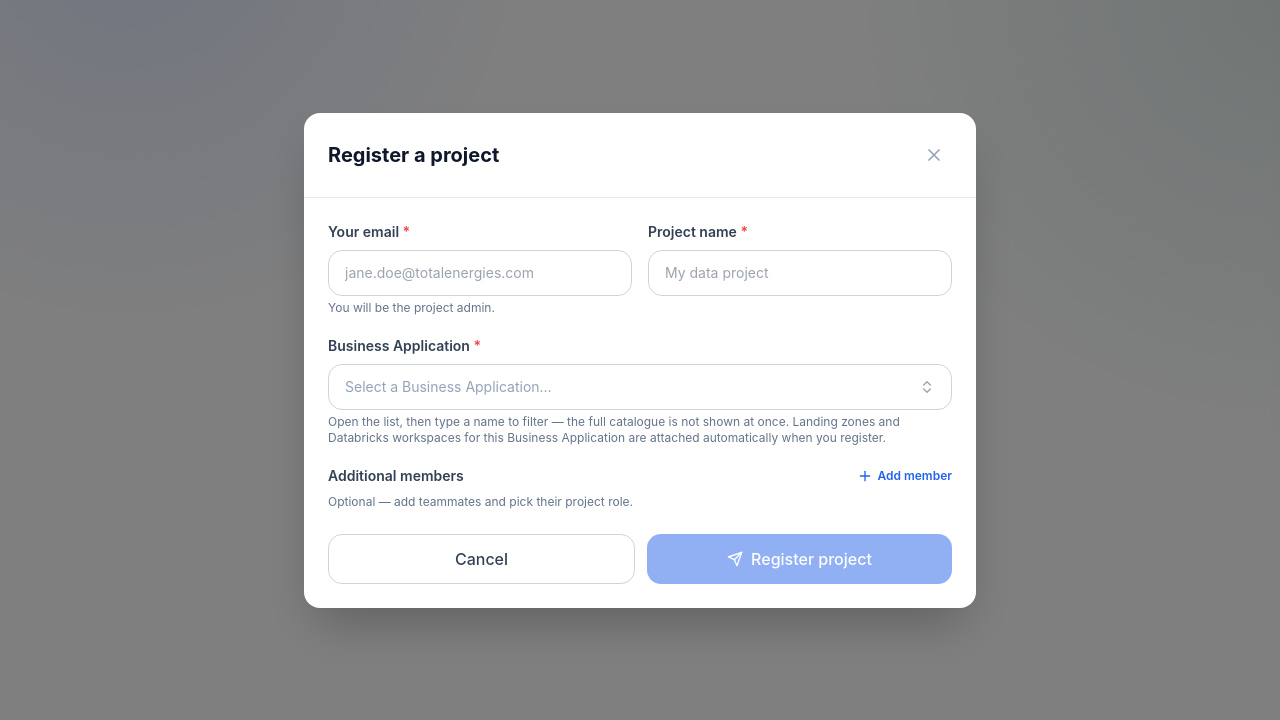
Test case: ProjectRegisterRequestModal › filters the Business Application options with the search box
Click the dropdown labelled "Select a Business Application…" at (448,386), box 328,364 -> 952,410
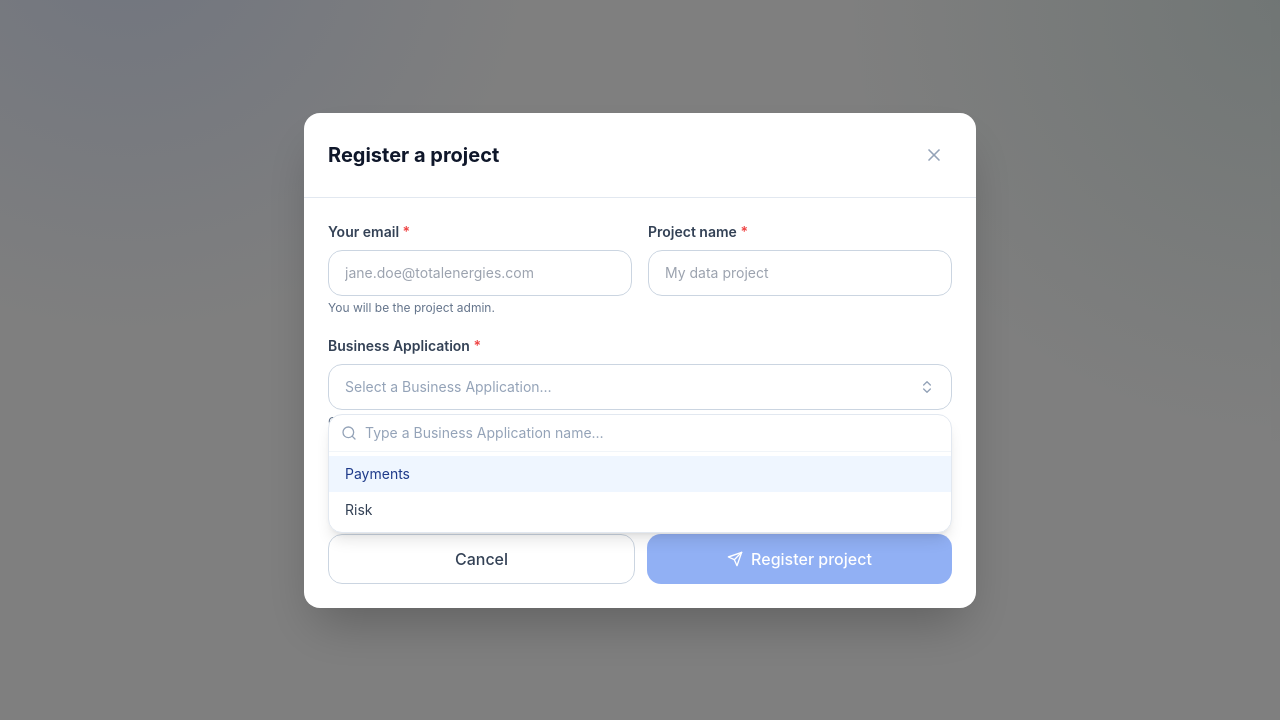
Now the option "Payments" is shown, box 329,456 -> 951,492
Now the option "Risk" is shown, box 345,500 -> 372,518
Type "risk" into the field labelled "Type a Business Application name…" at (652,432), box 365,422 -> 939,442
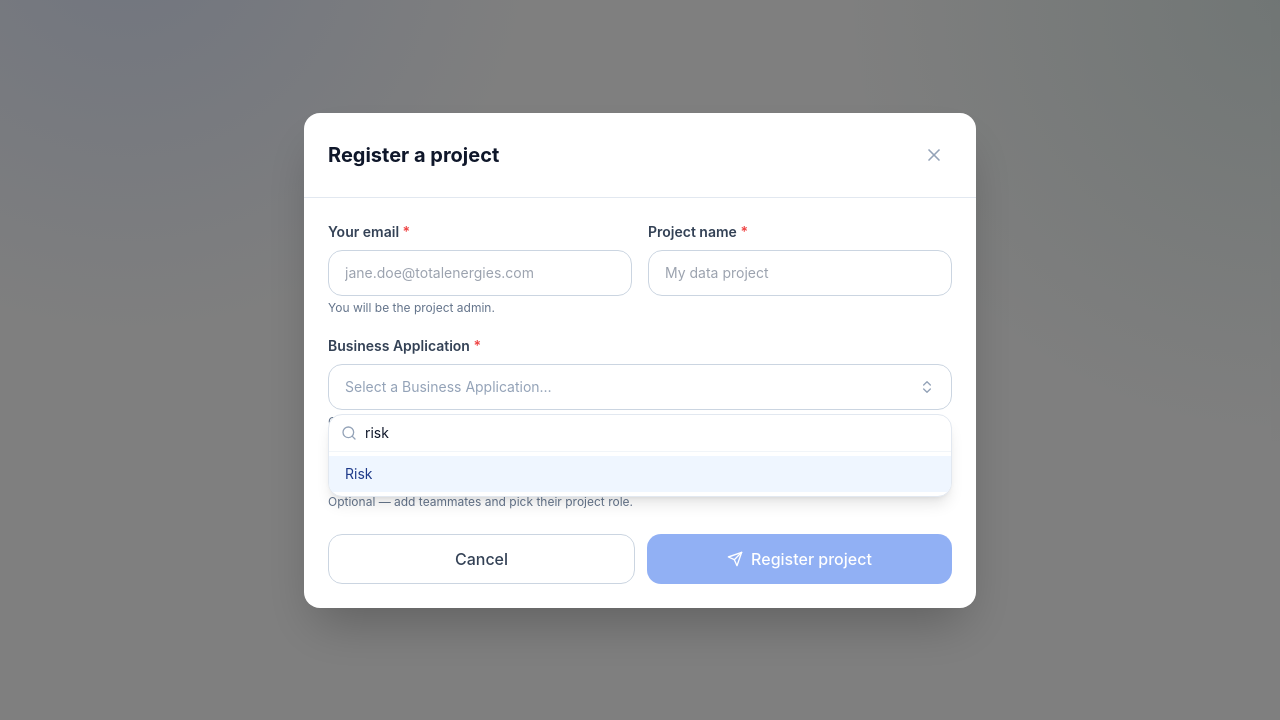
Now the option "Risk" is shown, box 329,456 -> 951,492
Now the option "Payments" is gone
